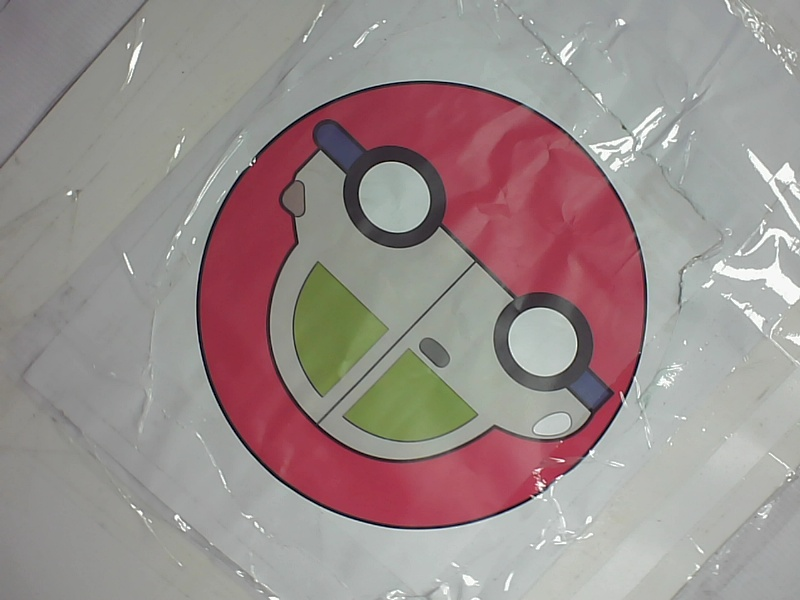areaC: (178, 83, 681, 531)
